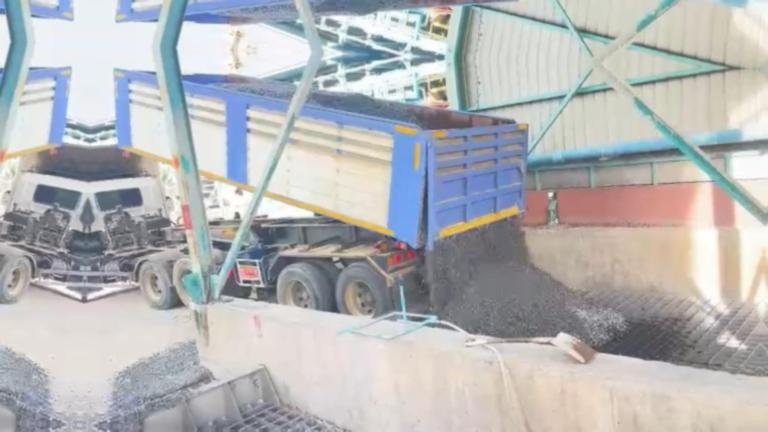gravel: (427, 219, 627, 346), (80, 341, 212, 425), (307, 88, 427, 128), (211, 82, 296, 102)
